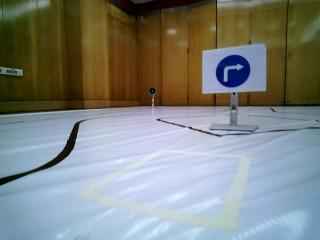right: (204, 52, 260, 90)
